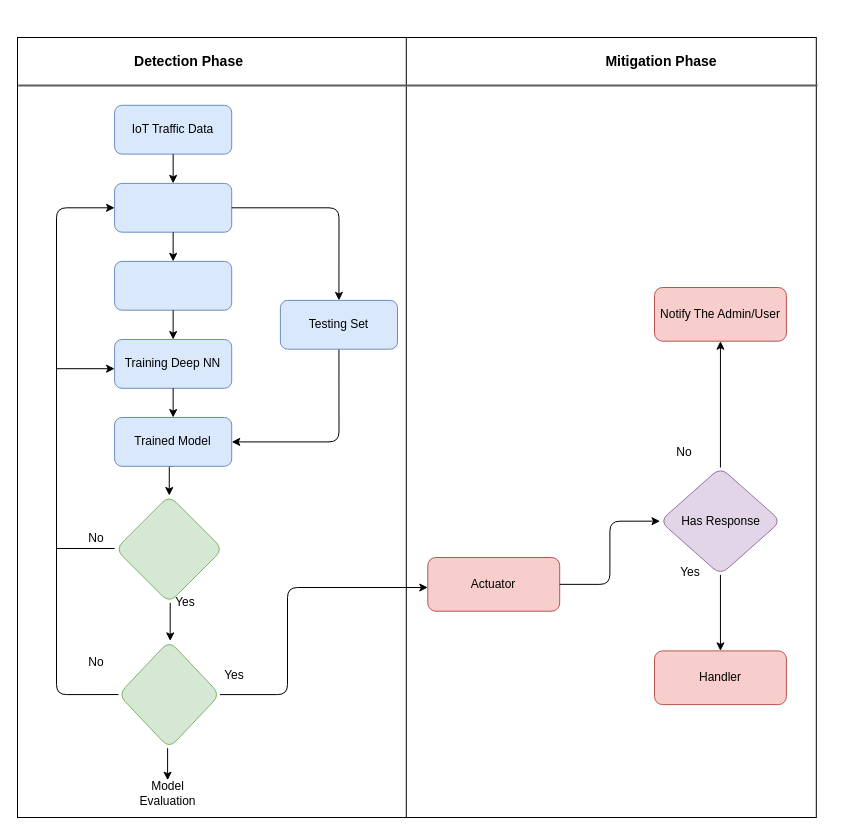
The diagram is 841 pixels wide and 835 high, and some of its shapes have lost their labels. Each missing label, with the centre of its shape:
"Data Preprocessing" belongs at (x=173, y=207).
"Known Mitigation" belongs at (x=169, y=694).
"Meet The Requirements?" belongs at (x=169, y=548).
"Training Set" belongs at (x=173, y=285).
